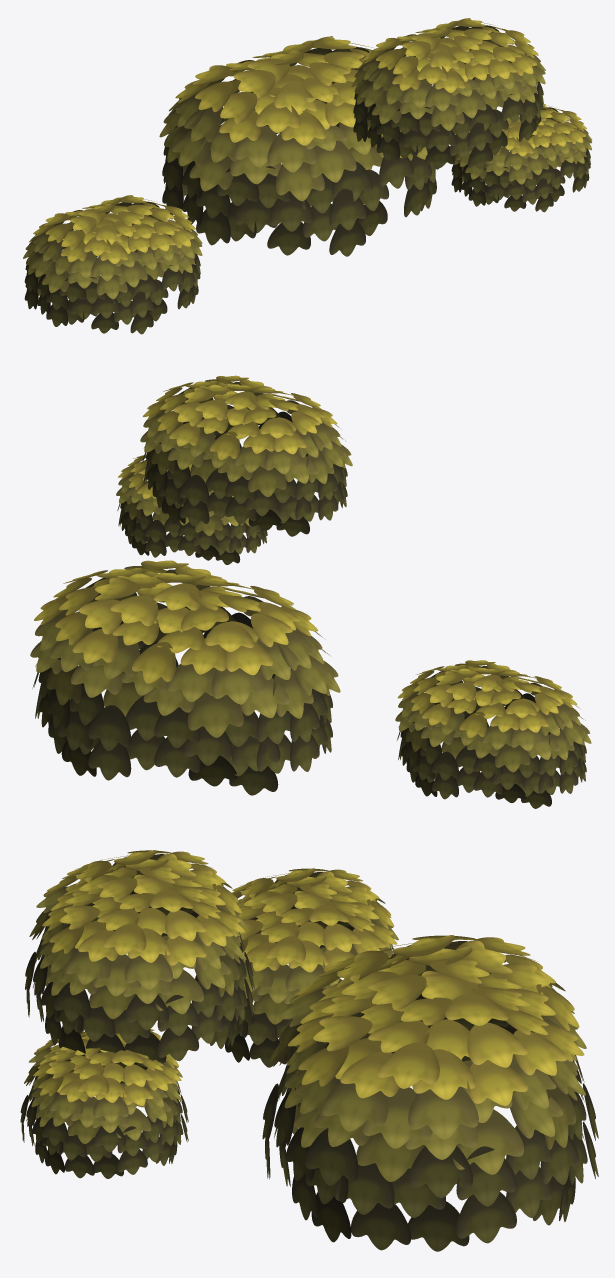
The model's file is arbol amarillo pequeño 1 hojas.fbx.
3 renders of one model, top to bottom at view 1: azimuth 30°, elevation 25°; view 2: azimuth 150°, elevation 25°; view 3: azimuth 270°, elevation 25°, orthographic. The views are drawn at different scales.
Parts seen in each view (by area): view 1: Object5110, Object5099, Object5120, Object5140, Object5139, Object5108, Object5098, Object5208, Object5166, Object5175, Object5219, Object5155 (+47 smaller); view 2: Object5104, Object5134, Object5094, Object5160, Object5093, Object5204, Object5142, Object5131, Object5105, Object5161, Object5102, Object5190 (+42 smaller); view 3: Object5088, Object5117, Object5136, Object5086, Object5212, Object5172, Object5178, Object5214, Object5137, Object5087, Object5163, Object5216 (+92 smaller).
Part boxes in pixels (box(x1,y1,x2,y2)): Object5110: box(308, 140, 356, 182); Object5099: box(267, 132, 316, 172); Object5120: box(276, 162, 324, 201); Object5140: box(269, 192, 313, 231); Object5139: box(329, 189, 366, 230); Object5108: box(189, 152, 233, 191); Object5098: box(234, 125, 276, 167); Object5208: box(267, 222, 310, 255); Object5166: box(256, 102, 300, 132); Object5175: box(274, 83, 317, 114); Object5219: box(234, 198, 277, 233); Object5155: box(281, 111, 325, 145); Object5104: box(187, 692, 243, 737); Object5134: box(88, 705, 131, 750); Object5094: box(211, 668, 264, 704); Object5160: box(132, 642, 175, 683); Object5093: box(167, 663, 216, 701); Object5204: box(88, 740, 131, 780); Object5142: box(183, 726, 232, 765); Object5131: box(154, 707, 200, 747); Object5105: box(240, 670, 289, 718); Object5161: box(72, 628, 118, 663); Object5102: box(71, 665, 122, 697); Object5190: box(110, 595, 158, 626); Object5088: box(408, 1086, 478, 1139); Object5117: box(453, 1109, 523, 1174); Object5136: box(409, 1145, 472, 1198); Object5086: box(321, 1082, 388, 1131); Object5212: box(456, 1192, 516, 1243); Object5172: box(377, 1042, 439, 1088); Object5178: box(467, 1022, 527, 1067); Object5214: box(351, 1203, 411, 1250); Object5137: box(305, 1128, 358, 1185); Object5087: box(362, 1087, 432, 1148); Object5163: box(467, 1060, 527, 1105); Object5216: box(408, 1201, 469, 1251).
Bounding box in the file's own units: 808 × 395 × 579.
